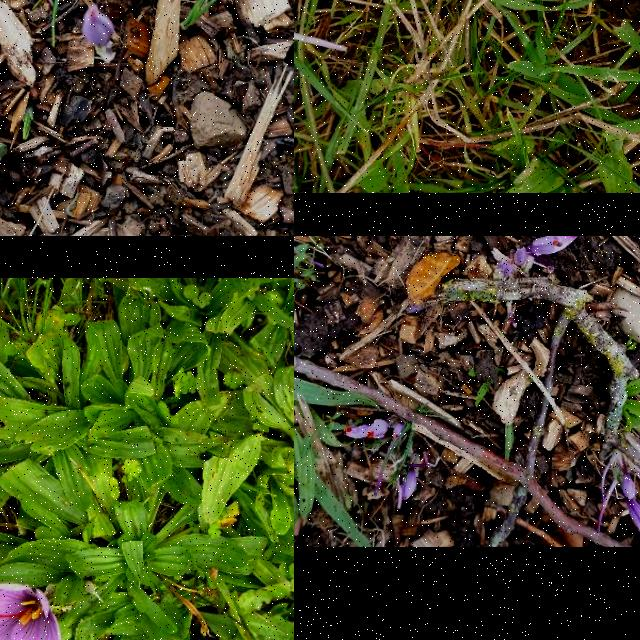flower: (0, 585, 63, 640), (82, 6, 116, 48), (622, 498, 640, 546), (620, 459, 636, 496), (532, 236, 563, 255), (402, 466, 418, 500), (345, 420, 369, 440), (366, 420, 389, 440)
